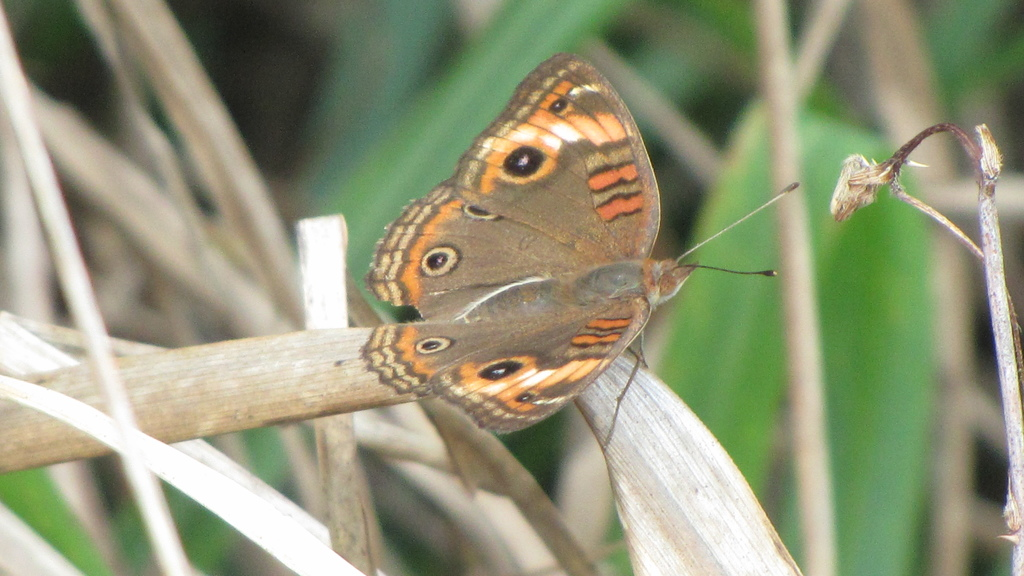Butterfly: (356, 45, 748, 444)
